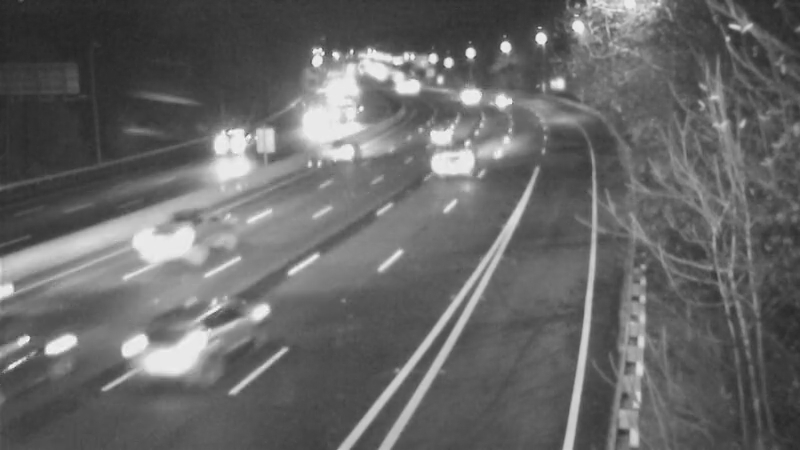vehicle: (114, 290, 224, 400), (1, 304, 98, 414), (298, 111, 378, 191), (415, 126, 495, 206), (151, 193, 231, 273), (434, 72, 484, 122), (473, 74, 523, 124), (413, 105, 463, 155), (200, 117, 250, 167)
